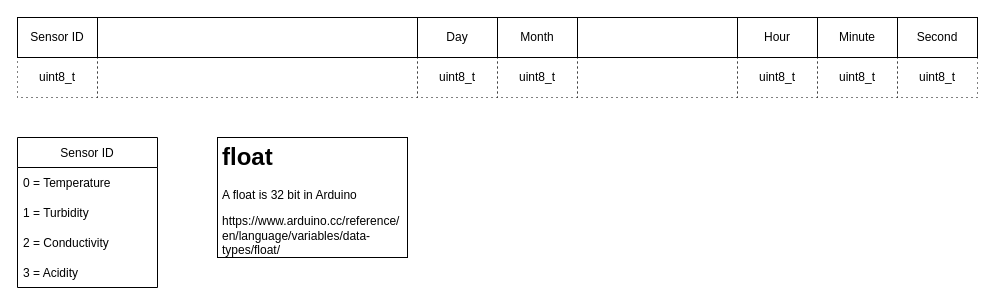
This 995x305 diagram has some shape labels left out. Each missing label, with the centre of its shape:
"float" goes at point (257, 77).
"Sensor Value" goes at point (257, 37).
"uint16_t" goes at point (657, 77).
"Year" goes at point (657, 37).
